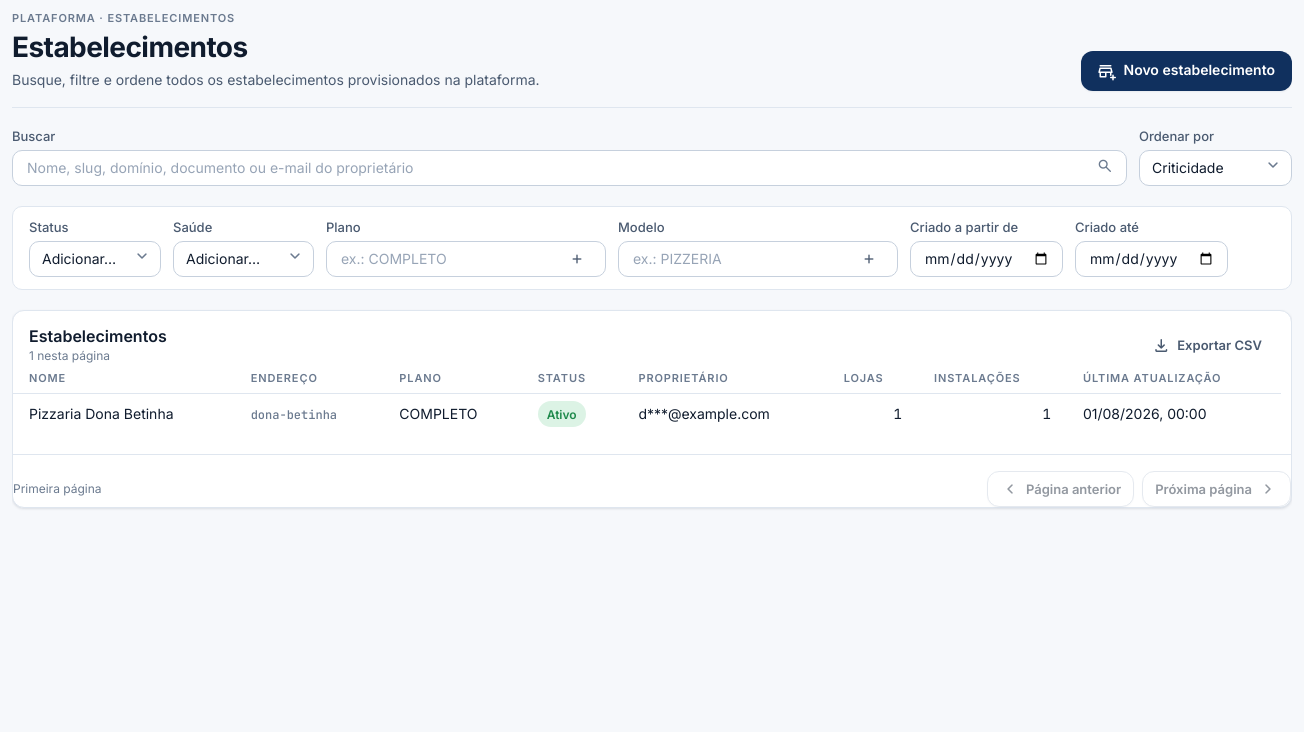
Test: TenantsDirectoryPage › preserva os resultados e os filtros ao falhar uma atualização, avisando que podem estar desatualizados
Expected: the text "Pizzaria Dona Betinha" is shown, [13,394,235,434]
Select "Ativo" in the dropdown labelled "Status" at (95, 259), box [30,242,160,276]
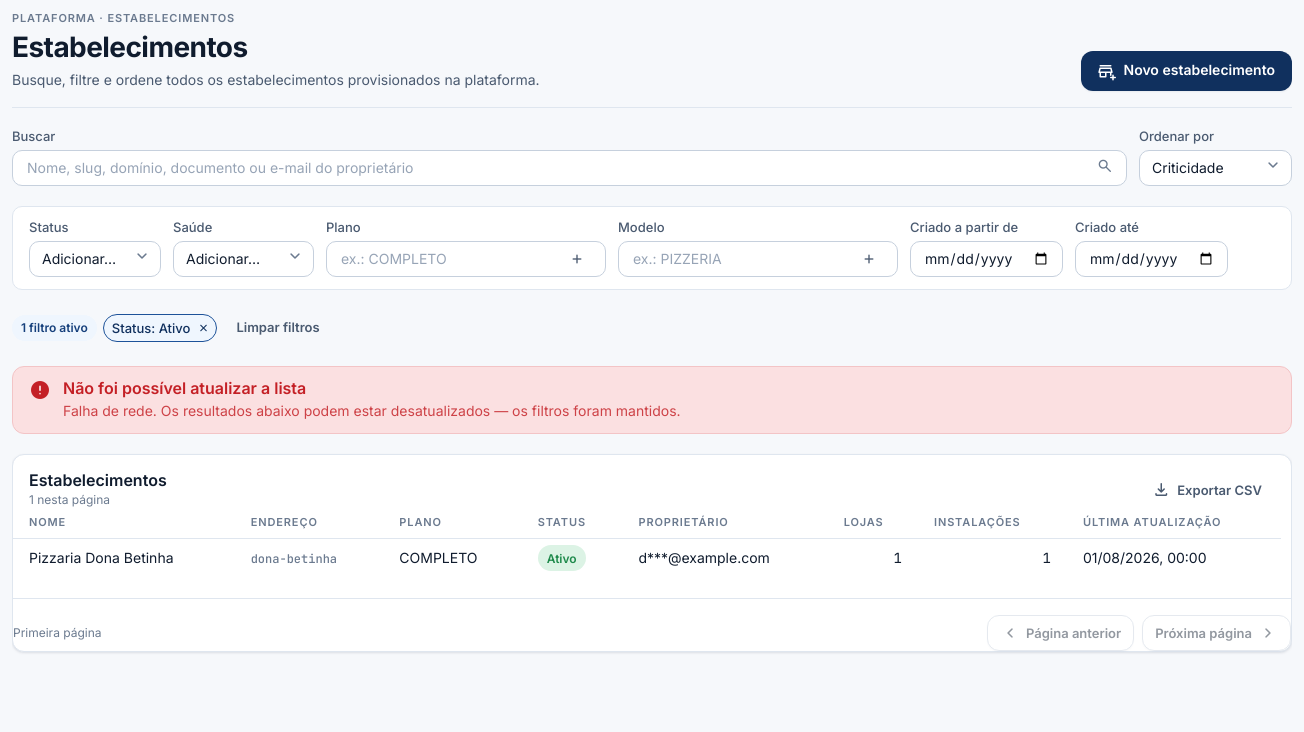
Expected: the text "Pizzaria Dona Betinha" is shown, [13,538,235,578]
Expected: the text "Não foi possível atualizar a lista" is shown, [63,378,306,398]
Expected: the text "Status: Ativo" is shown, [103,314,217,342]
